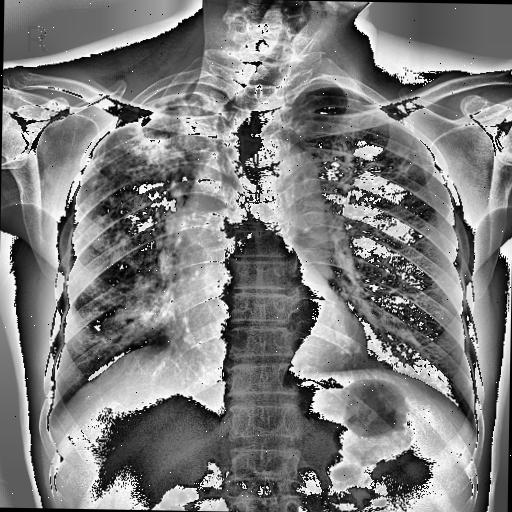0- Aortic enlargement: (246, 136, 329, 224), (236, 140, 324, 222), (245, 140, 319, 225)
1- Atelectasis: (78, 108, 204, 248)
11- Pleural thickening: (138, 70, 238, 109), (128, 82, 212, 104)
13- Pulmonary fibrosis: (78, 108, 204, 248), (84, 100, 212, 236), (94, 98, 180, 276), (92, 239, 188, 363), (326, 121, 422, 178), (333, 140, 426, 198), (382, 134, 434, 178), (334, 144, 375, 180)
4- Consolidation: (138, 288, 174, 332)
6- Infiltration: (78, 108, 204, 248), (94, 98, 180, 276)
7- Lung Opacity: (92, 239, 188, 363), (104, 290, 168, 342)
9- Other lesion: (183, 67, 267, 243)
